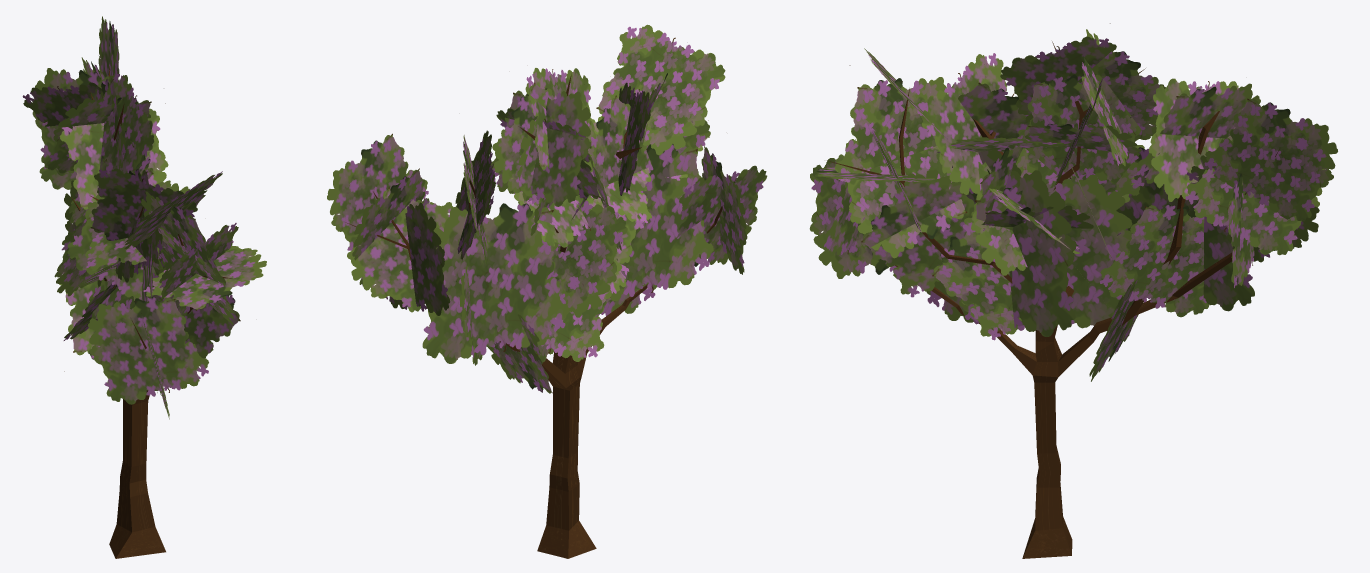
The model's file is quaresmeira3.fbx.
3 views of the same model, side by side, from view 1: azimuth 30°, elevation 25°; view 2: azimuth 150°, elevation 25°; view 3: azimuth 270°, elevation 25° (orthographic). The views are drawn at different scales.
Parts seen in each view (by area): view 1: Cube; view 2: Cube; view 3: Cube.
Part boxes in pixels (x1,y1,x2,y2): Cube: (22,16,266,558); Cube: (327,24,767,558); Cube: (809,23,1337,558).
Bounding box in the file's own units: 470 × 931 × 883.
